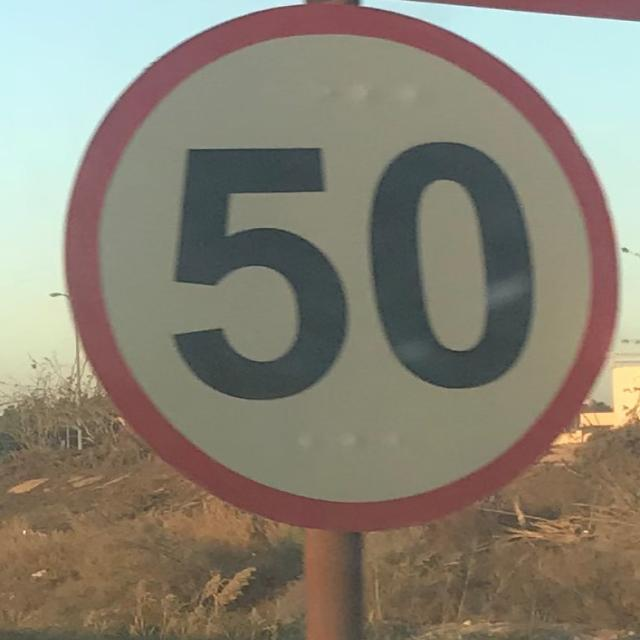Limite-50: (64, 0, 620, 530)
